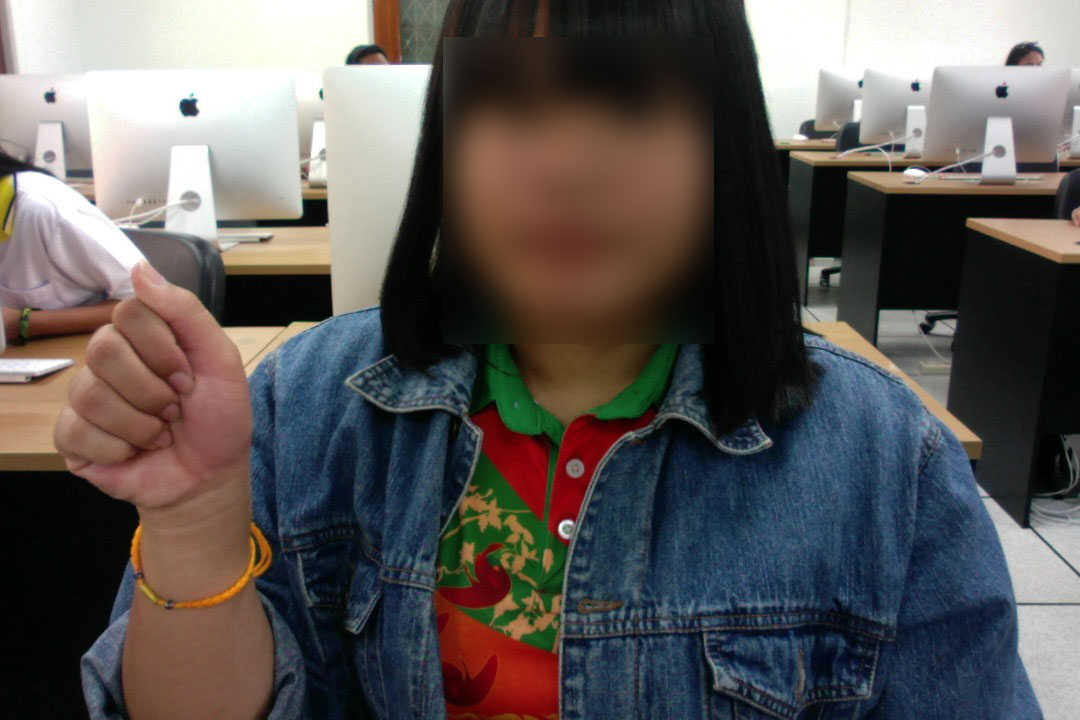or: (46, 238, 267, 526)
